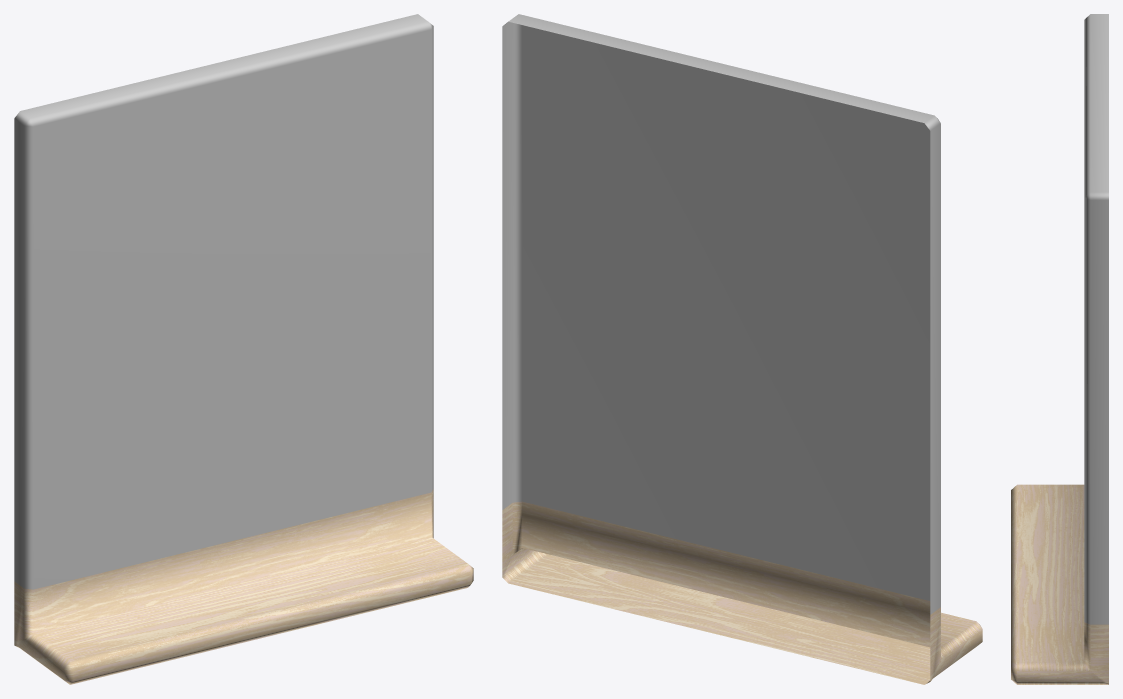
File: bathroom_003.fbx
The picture shows the model from 3 angles, left to right: view 1: azimuth 30°, elevation 25°; view 2: azimuth 150°, elevation 25°; view 3: azimuth 270°, elevation 25°; orthographic projection. The views are drawn at different scales.
Parts seen in each view (by area): view 1: bathroom_003; view 2: bathroom_003; view 3: bathroom_003.
Part boxes in pixels (x1,y1,x2,y2): bathroom_003: [14, 14, 473, 684]; bathroom_003: [502, 14, 982, 684]; bathroom_003: [1011, 14, 1108, 684].
Size of the model in its own units: 72.61 by 16.4 by 91.02.
